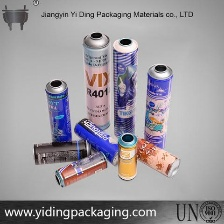aerosol_cans: (80, 29, 112, 132), (140, 62, 175, 153), (72, 114, 129, 168), (111, 35, 140, 140), (126, 131, 183, 180), (41, 75, 74, 151), (53, 147, 109, 189), (28, 137, 95, 167), (114, 130, 140, 183)
